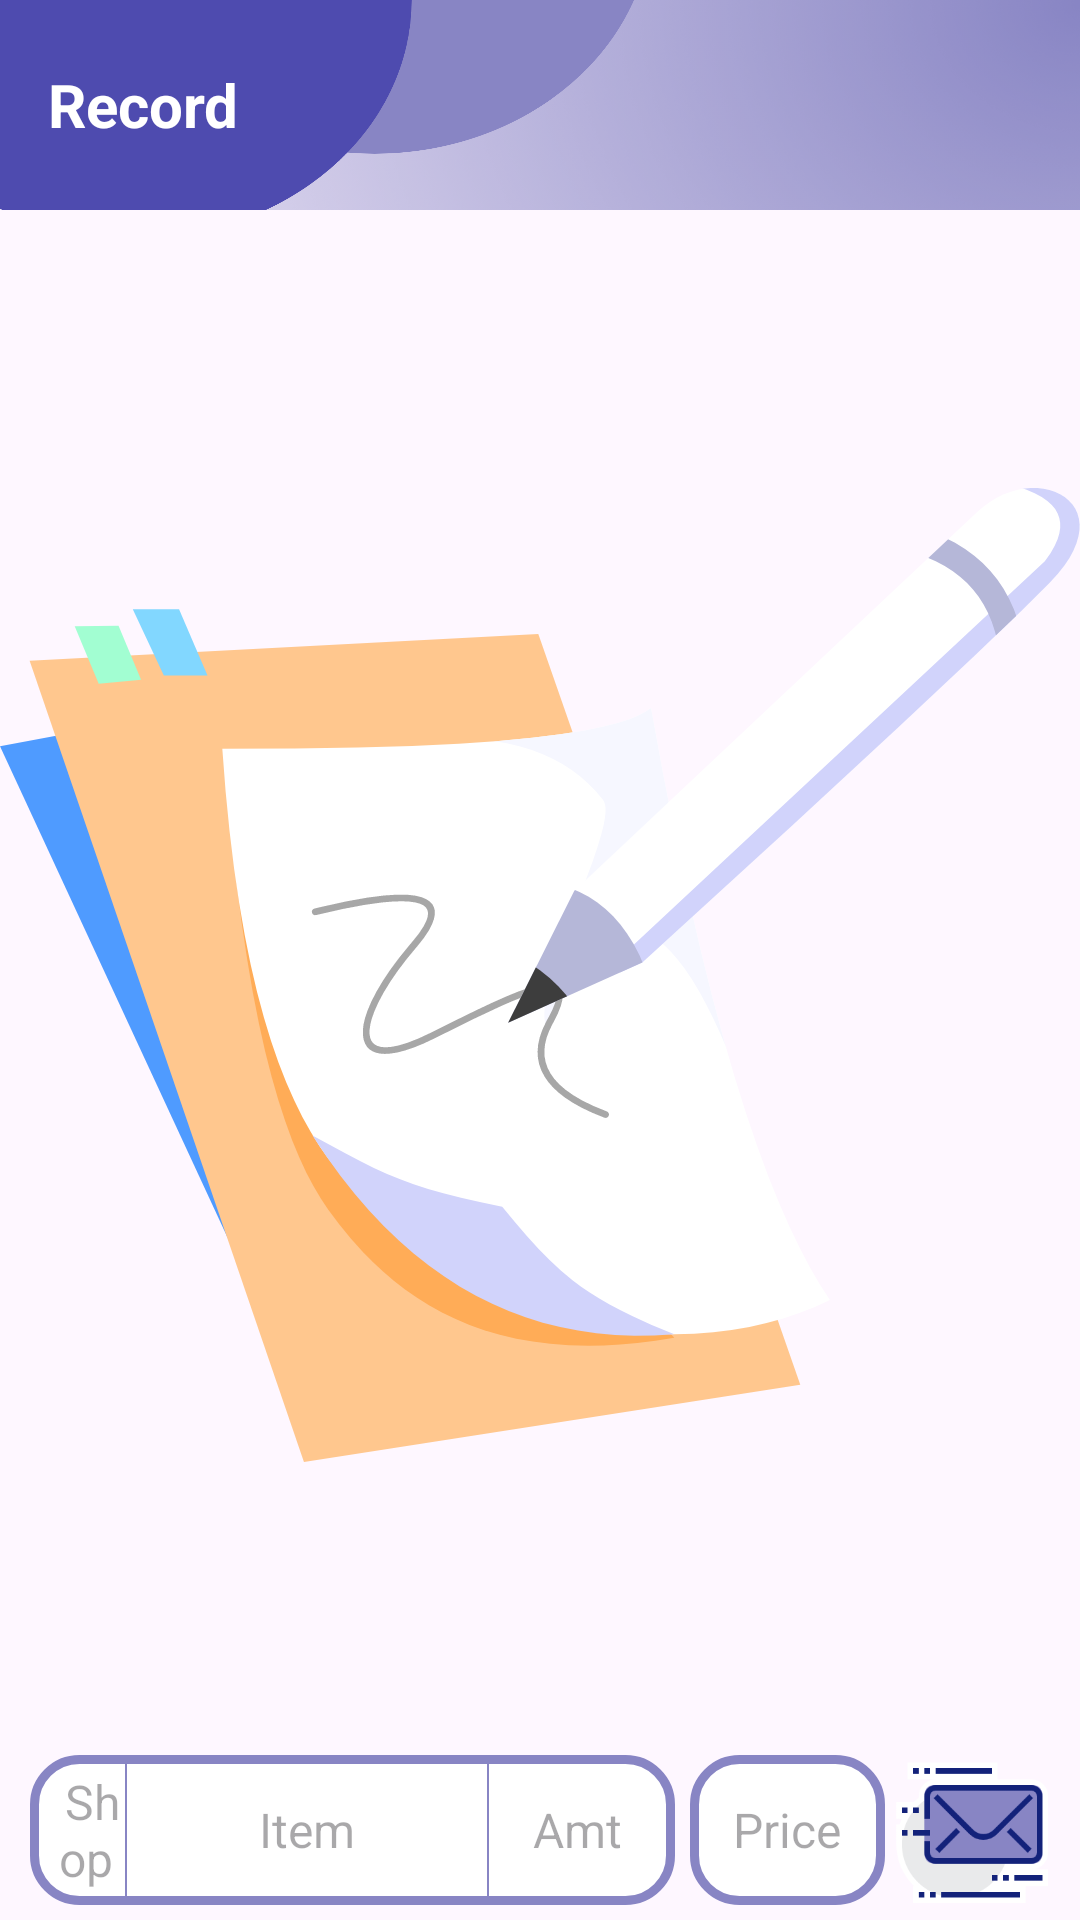

Icon click points for this 1080x1920 phone screenshot, format point (x, y):
send: point (972, 1833)
